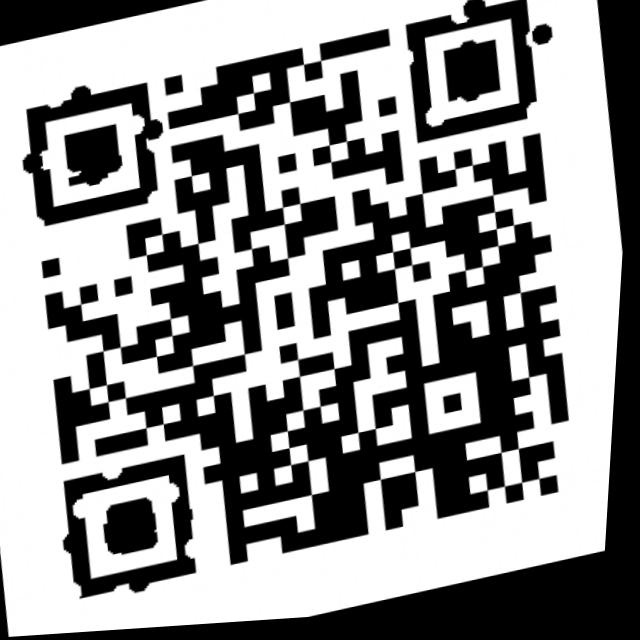QR_CODE: (0, 0, 640, 636)
